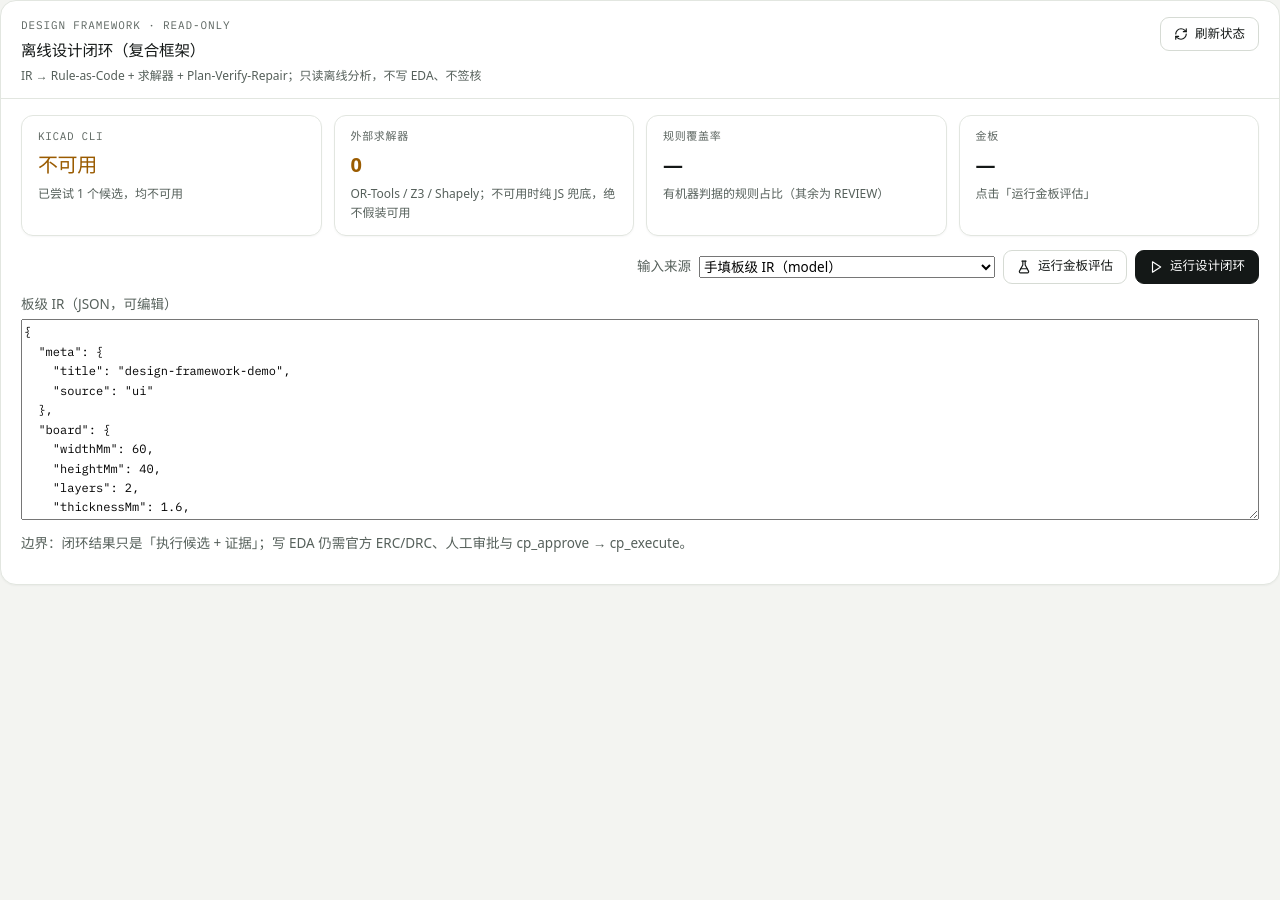
it: 离线设计闭环面板 › 运行闭环：needs-review 必须显示"需人工审阅（不是 passed）"，绝不显示通过
Click the button "运行设计闭环".
click(1197, 267)  # box left=1135, top=250, right=1259, bottom=284
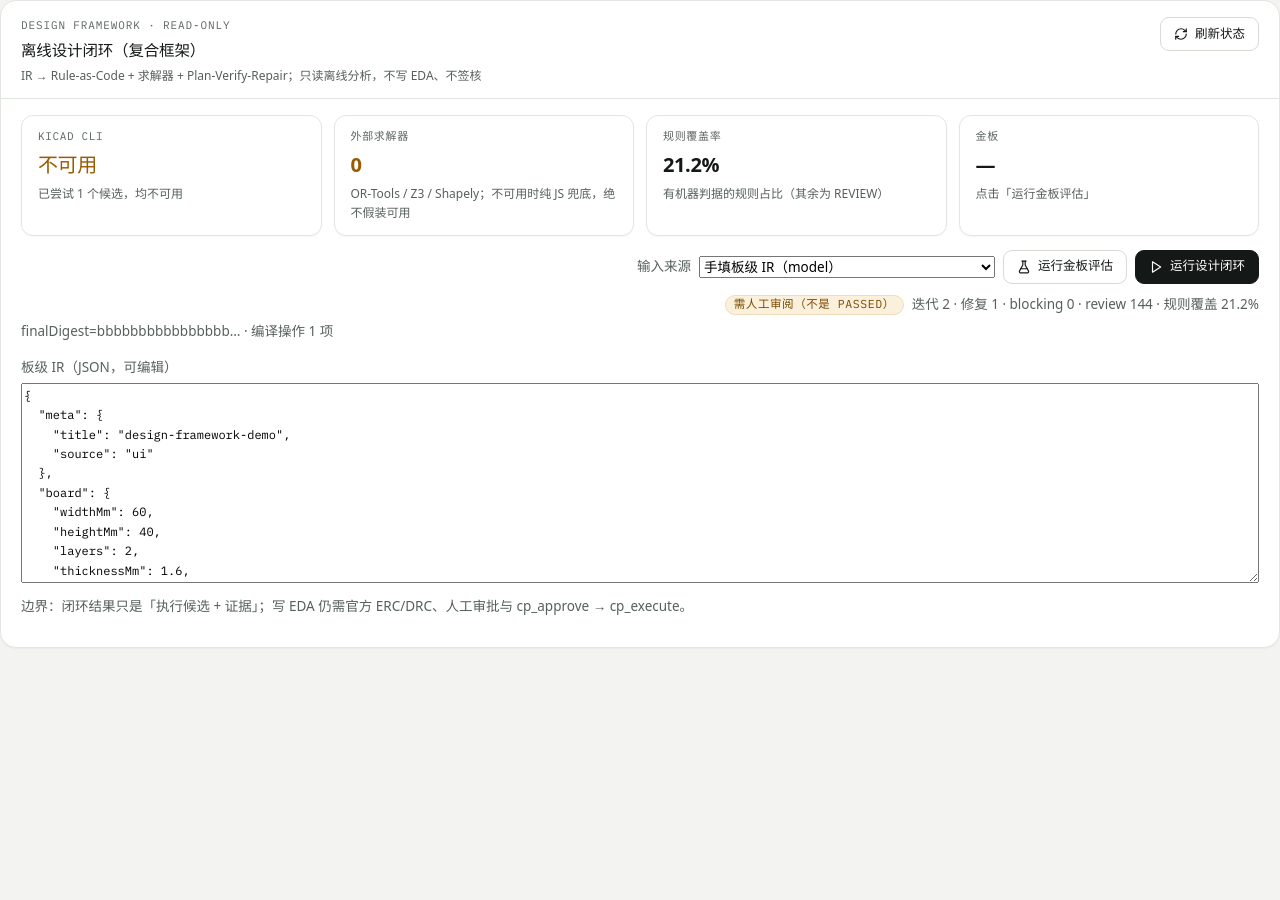
Expected: the text "写 EDA 仍需官方 ERC/DRC、人工审批" is shown, left=21, top=597, right=693, bottom=615
Now the text "需人工审阅（不是 passed）" is shown, box left=725, top=294, right=904, bottom=314
